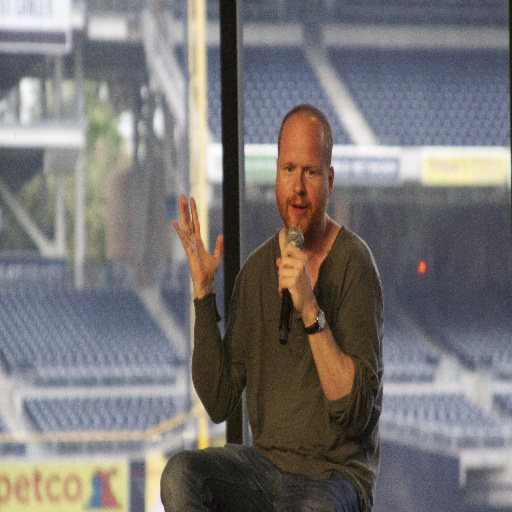hand: (170, 194, 224, 307), (274, 240, 313, 316)
